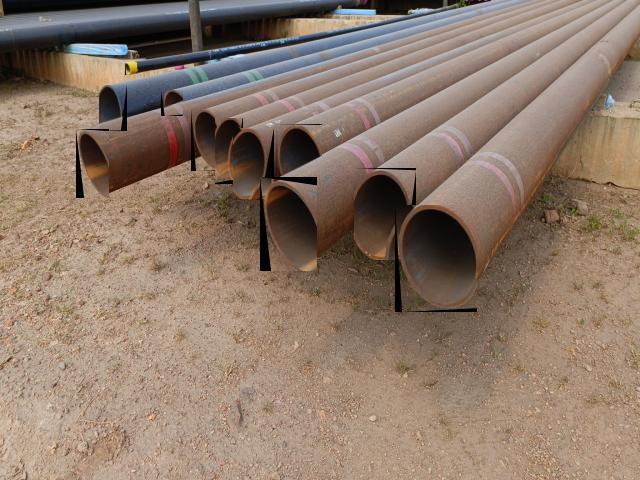pipe: (395, 205, 477, 312), (354, 168, 416, 260), (260, 177, 317, 271), (233, 128, 274, 200), (276, 124, 322, 176), (76, 129, 109, 198), (191, 110, 221, 172), (215, 118, 243, 184), (100, 85, 128, 131), (161, 90, 183, 115), (125, 62, 132, 75)
